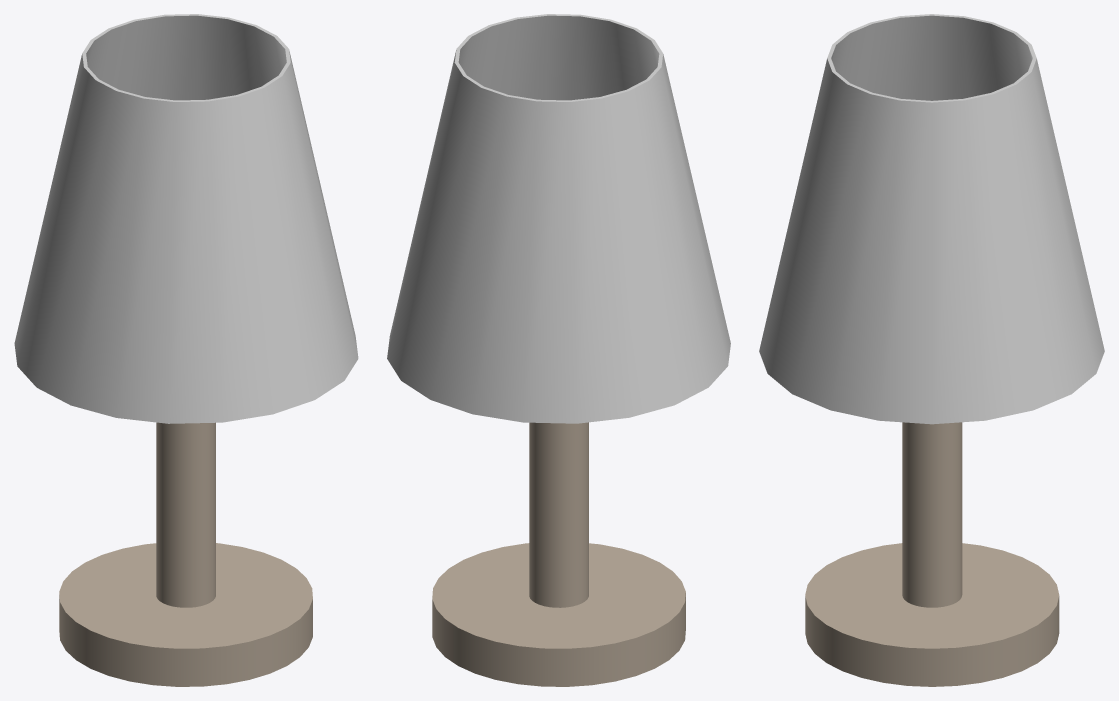
File: LampeChevet2_6.fbx
3 renders of one model, left to right at view 1: azimuth 30°, elevation 25°; view 2: azimuth 150°, elevation 25°; view 3: azimuth 270°, elevation 25°, orthographic.
Parts seen in each view (by area): view 1: pPipe109, pCylinder763; view 2: pPipe109, pCylinder763; view 3: pPipe109, pCylinder763.
Boxes of the visible parts, x1,y1,x2,y2 form: pPipe109: (14,14,358,423); pCylinder763: (59,422,312,686); pPipe109: (387,14,730,423); pCylinder763: (432,422,685,686); pPipe109: (759,14,1104,424); pCylinder763: (805,422,1059,686).
Size of the model in its own units: 13.33 by 24.46 by 13.33.
